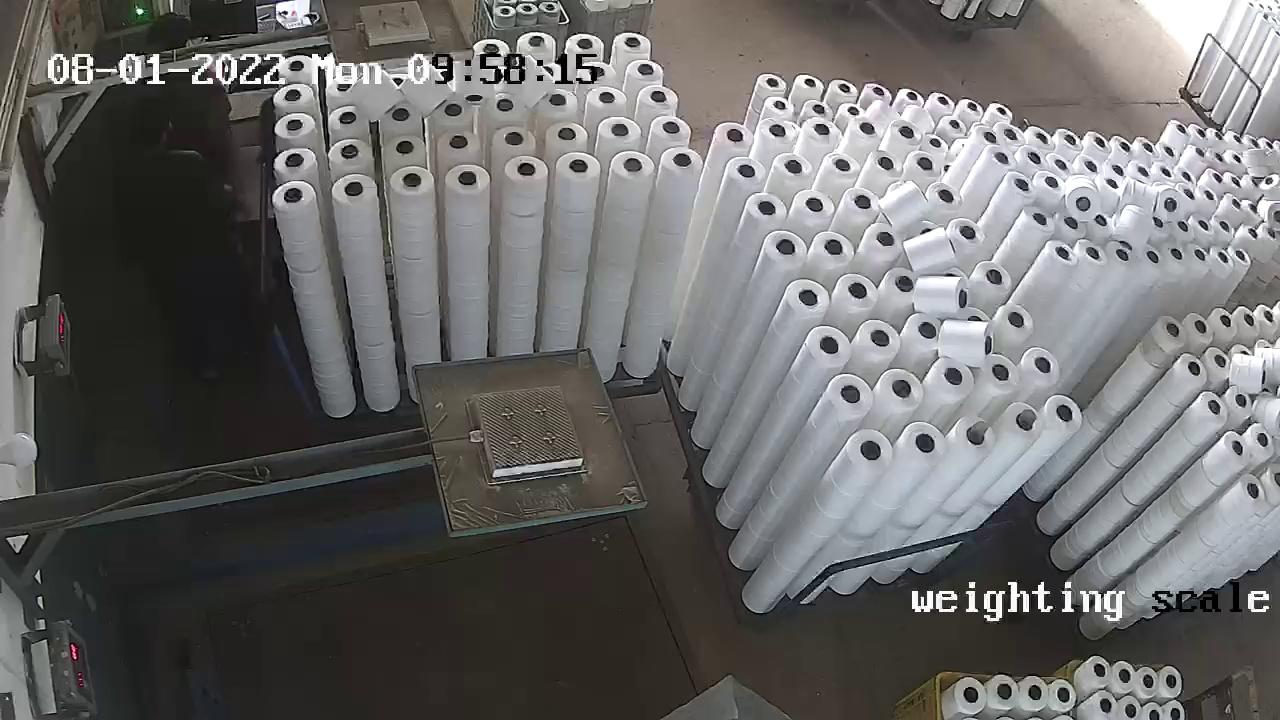person: (127, 120, 254, 382)
